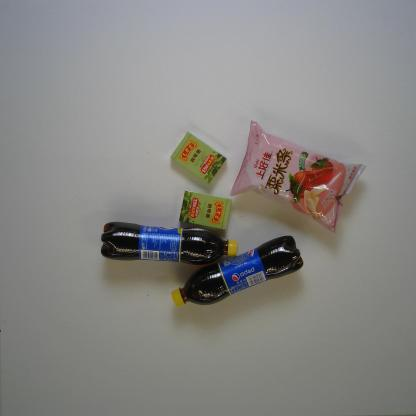Candy: (170, 131, 228, 185), (178, 190, 233, 231)
Drink: (170, 234, 304, 306), (100, 220, 238, 267)
Puffed Food: (228, 119, 370, 235)
